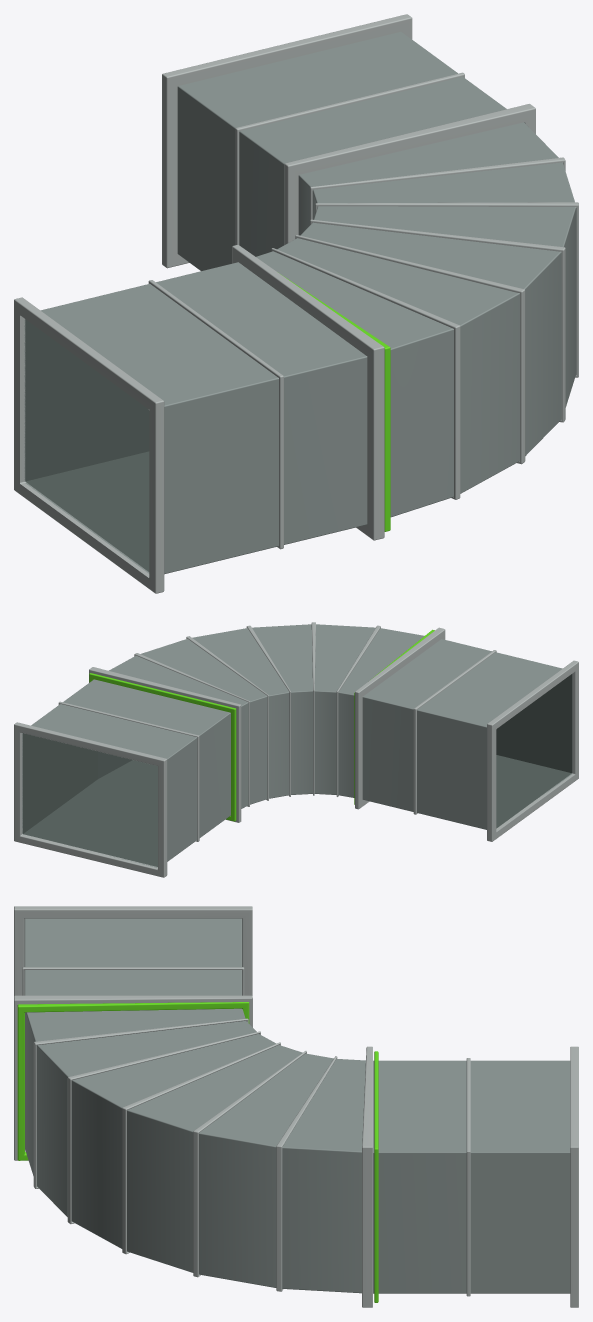
Rendered from elbow.glb.
3 renders of one model, top to bottom at view 1: azimuth 30°, elevation 25°; view 2: azimuth 150°, elevation 25°; view 3: azimuth 270°, elevation 25°, orthographic. The views are drawn at different scales.
Visible parts, largest first — view 1: Exterior, Interior, Folded joint, Folded joint.012, Folded joint.002, Folded joint.009, Folded joint.004, Folded joint.005, Folded joint.006, Folded joint.007, Folded joint.001, Folded joint.011 (+2 smaller); view 2: Exterior, Interior, Folded joint.012, Folded joint, Folded joint.002, Folded joint.009, Folded joint.010, Folded joint.001, Folded joint.011, Folded joint.004, Folded joint.008, Folded joint.007 (+2 smaller); view 3: Exterior, Folded joint, Folded joint.003, Folded joint.002, Folded joint.009, Folded joint.012, Folded joint.008, Folded joint.005, Folded joint.007, Folded joint.006, Folded joint.004, Folded joint.010 (+2 smaller).
Part boxes in pixels (x1,y1,x2,y2): Exterior: [24, 31, 576, 574]; Interior: [25, 319, 149, 571]; Folded joint: [14, 297, 164, 593]; Folded joint.012: [162, 14, 412, 268]; Folded joint.002: [232, 244, 384, 540]; Folded joint.009: [284, 104, 535, 244]; Folded joint.004: [271, 248, 460, 499]; Folded joint.005: [295, 235, 525, 464]; Folded joint.006: [310, 219, 565, 422]; Folded joint.007: [315, 202, 578, 377]; Folded joint.001: [148, 280, 283, 549]; Folded joint.011: [235, 72, 464, 245]; Exterior: [22, 624, 572, 867]; Interior: [23, 674, 571, 866]; Folded joint.012: [14, 722, 167, 877]; Folded joint: [487, 660, 578, 841]; Folded joint.002: [355, 627, 445, 809]; Folded joint.009: [89, 667, 241, 822]; Folded joint.010: [89, 673, 236, 821]; Folded joint.001: [413, 650, 496, 814]; Folded joint.011: [58, 701, 199, 841]; Folded joint.004: [336, 625, 380, 796]; Folded joint.008: [134, 653, 249, 806]; Folded joint.007: [186, 636, 268, 800]; Exterior: [24, 918, 570, 1293]; Folded joint: [14, 906, 252, 995]; Folded joint.003: [17, 1002, 249, 1160]; Folded joint.002: [14, 995, 252, 1160]; Folded joint.009: [362, 1046, 372, 1307]; Folded joint.012: [570, 1046, 578, 1307]; Folded joint.008: [276, 1056, 337, 1291]; Folded joint.005: [67, 1031, 260, 1224]; Folded joint.007: [193, 1051, 306, 1277]; Folded joint.006: [122, 1042, 280, 1254]; Folded joint.004: [33, 1018, 248, 1188]; Folded joint.010: [374, 1051, 378, 1302].
Bounding box in the file's own units: 4.85 × 1.51 × 4.8.
